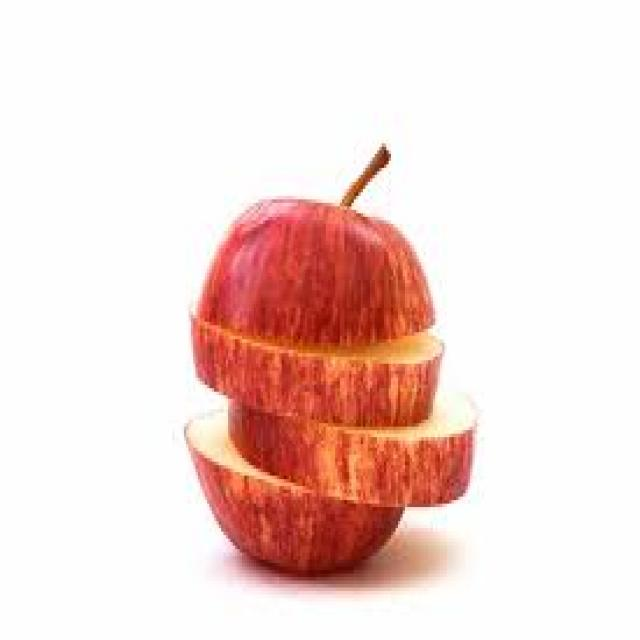Apple: (196, 182, 432, 347), (187, 438, 412, 585), (233, 394, 486, 503), (182, 324, 450, 412)
